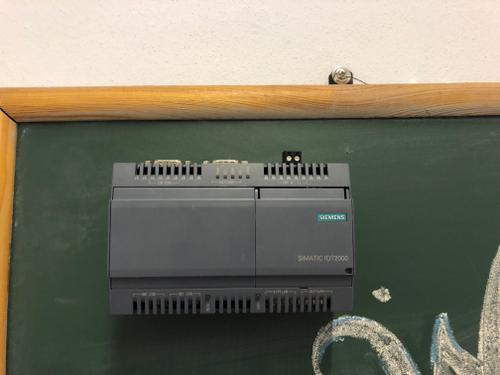device: (108, 152, 356, 316)
